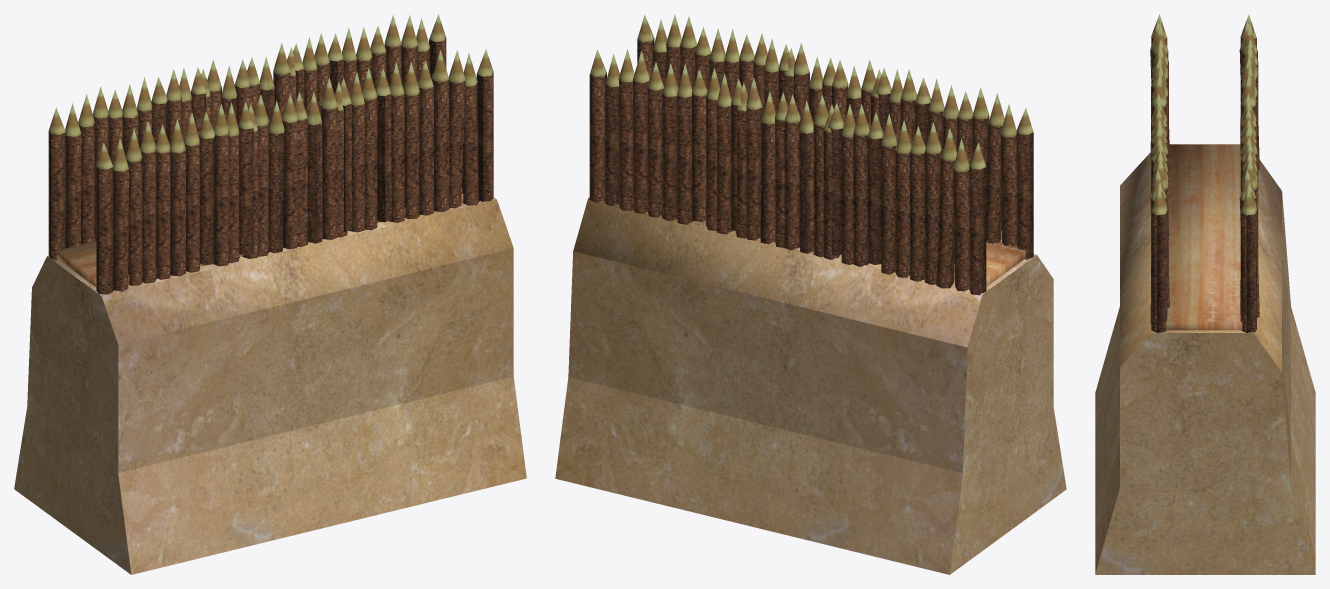
Rendered from xion_wall_short.dae.
3 renders of one model, left to right at view 1: azimuth 30°, elevation 25°; view 2: azimuth 150°, elevation 25°; view 3: azimuth 270°, elevation 25°, orthographic. The views are drawn at different scales.
Parts seen in each view (by area): view 1: wall_short; view 2: wall_short; view 3: wall_short.
Part boxes in pixels (bbox=[...]): wall_short: bbox=[14, 14, 526, 574]; wall_short: bbox=[555, 14, 1066, 574]; wall_short: bbox=[1095, 14, 1315, 574].
Size of the model in its own units: 15.44 by 7.92 by 15.53.
